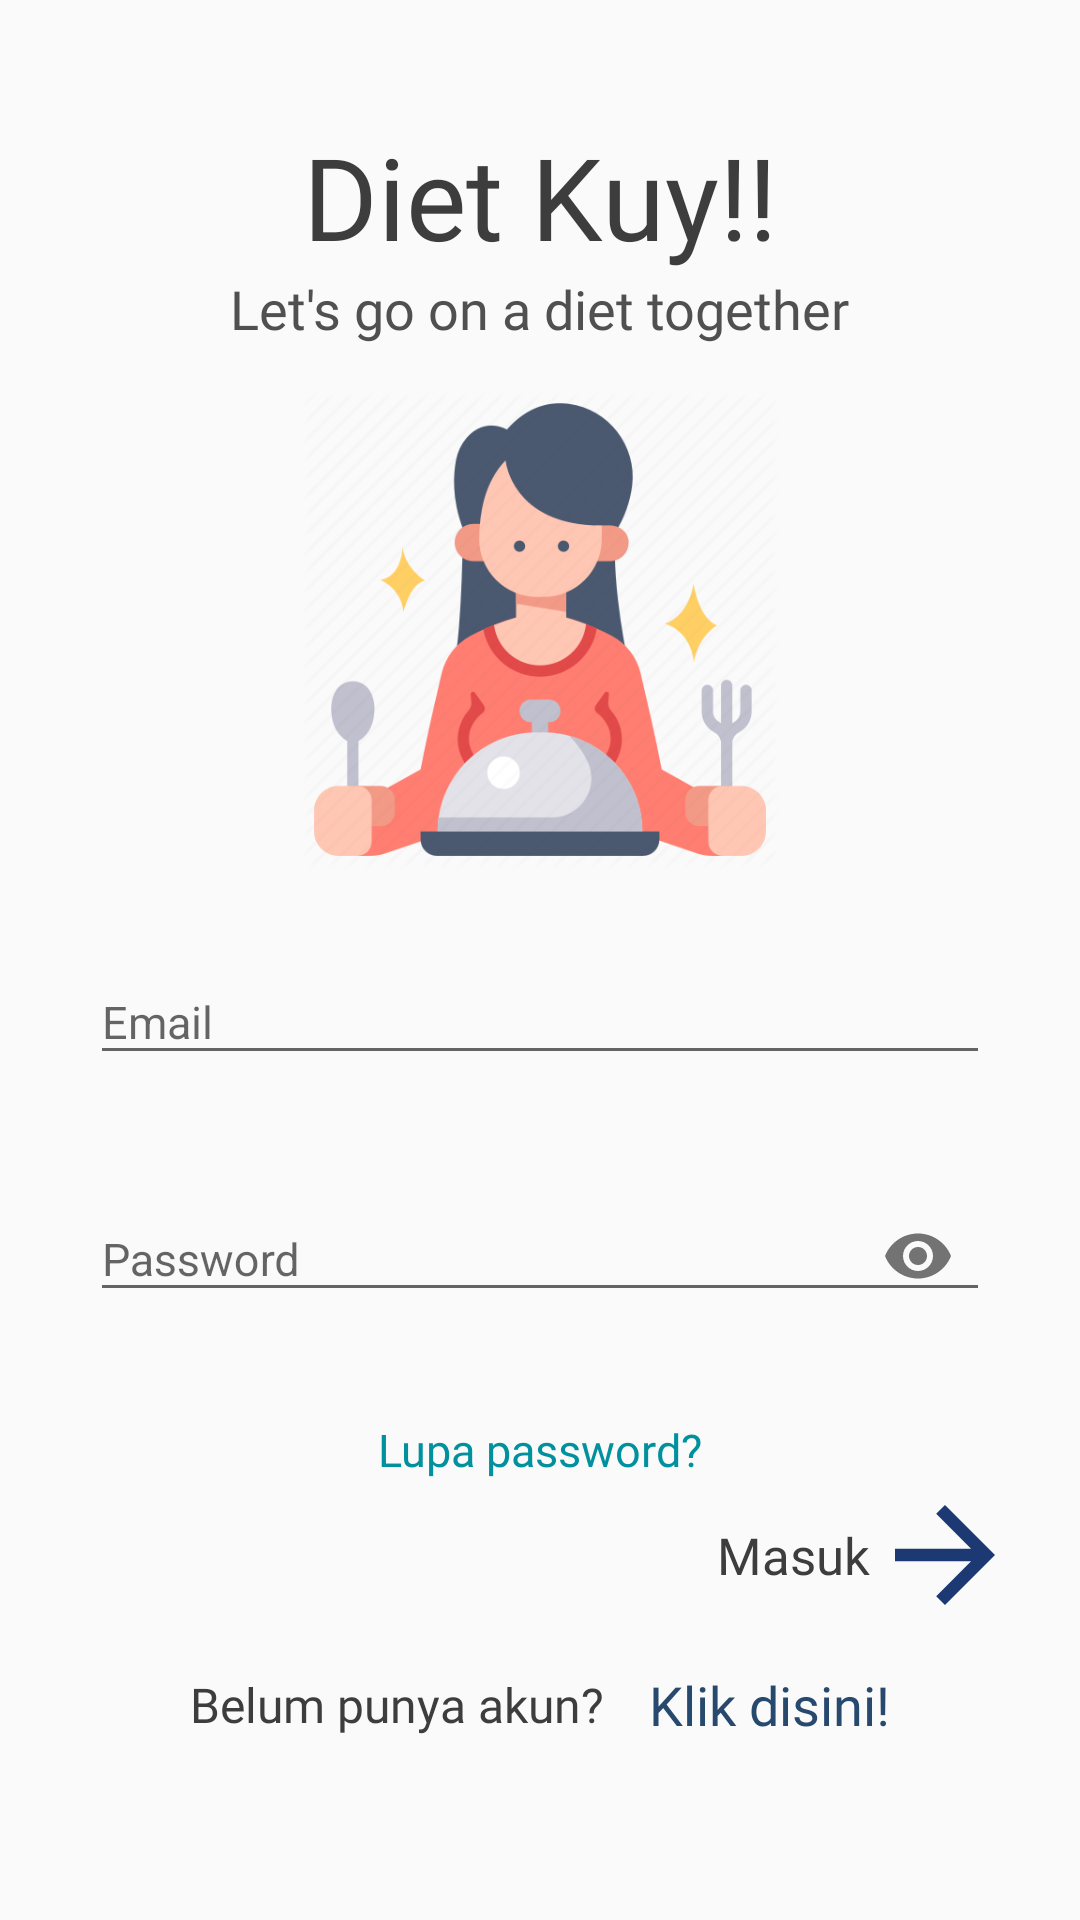

Icons on this 1080px x 1920px Android screen, each with the point to tap as (x,y):
next: (945,1555)
